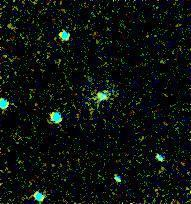star: (6, 145, 36, 175)
